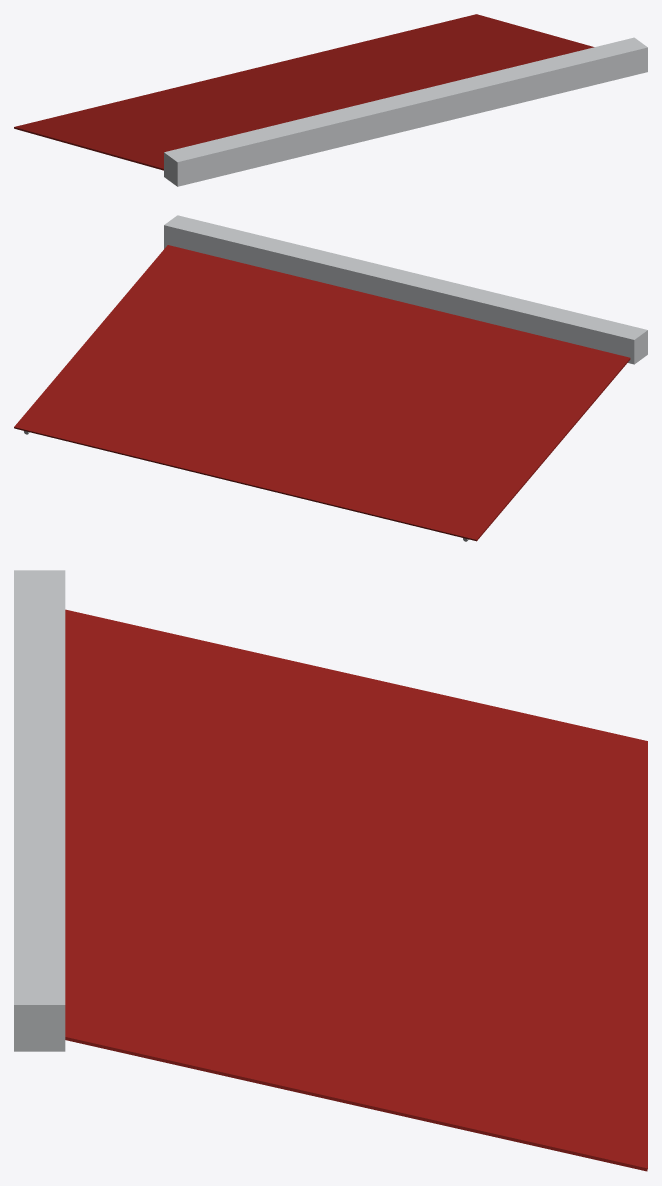
File: opening.extra.awning.glb
3 views of the same model, one above another, from view 1: azimuth 30°, elevation 25°; view 2: azimuth 150°, elevation 25°; view 3: azimuth 270°, elevation 25° (orthographic). The views are drawn at different scales.
Visible parts, largest first — view 1: main__fabric_red, main__aluminium; view 2: main__fabric_red, main__aluminium; view 3: main__fabric_red, main__aluminium.
Part boxes in pixels (x1,y1,x2,y2): main__fabric_red: [14, 14, 594, 170]; main__aluminium: [164, 37, 647, 186]; main__fabric_red: [14, 245, 630, 541]; main__aluminium: [24, 215, 647, 541]; main__fabric_red: [65, 609, 647, 1171]; main__aluminium: [14, 570, 65, 1051].
Bounding box in the file's own units: 3 × 0.5696 × 1.85.
